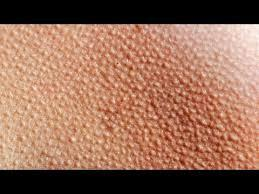Goosebumps: (0, 24, 258, 168)
